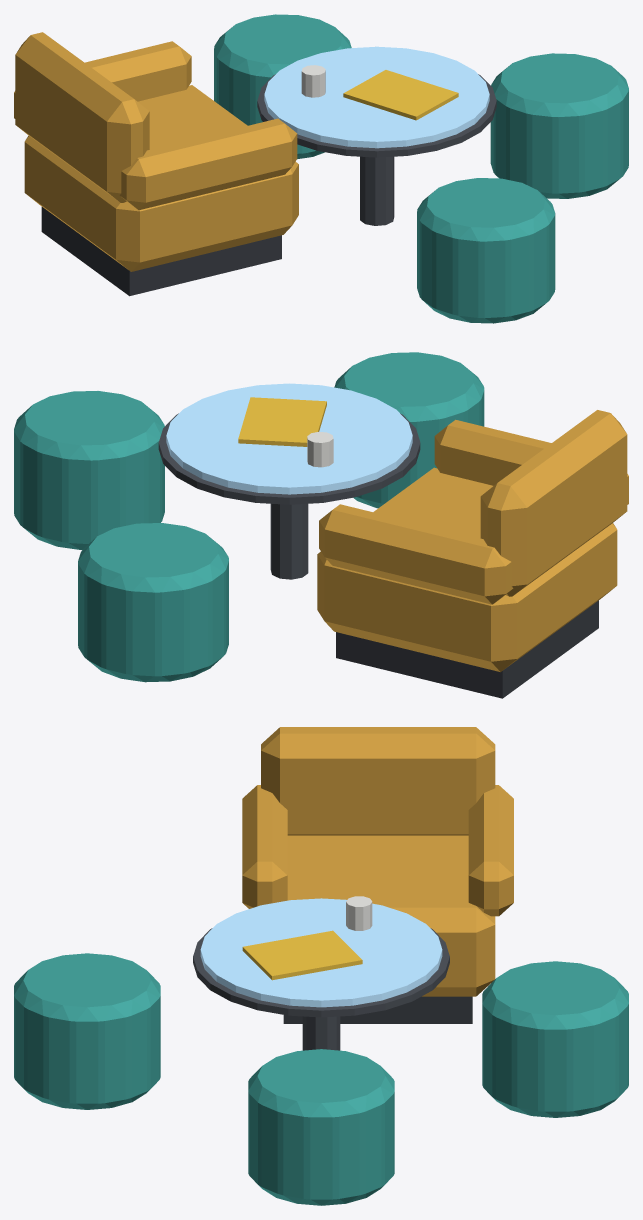
File: lounge_square.glb
3 renders of one model, top to bottom at view 1: azimuth 30°, elevation 25°; view 2: azimuth 150°, elevation 25°; view 3: azimuth 270°, elevation 25°, orthographic. The views are drawn at different scales.
Visible parts, largest first — view 1: lounge_square_mesh; view 2: lounge_square_mesh; view 3: lounge_square_mesh.
Part boxes in pixels (box(x1,y1,x2,y2)): lounge_square_mesh: box(14, 14, 628, 323); lounge_square_mesh: box(14, 352, 628, 698); lounge_square_mesh: box(14, 727, 628, 1205).
Bounding box in the file's own units: 1.74 × 0.62 × 1.63.
